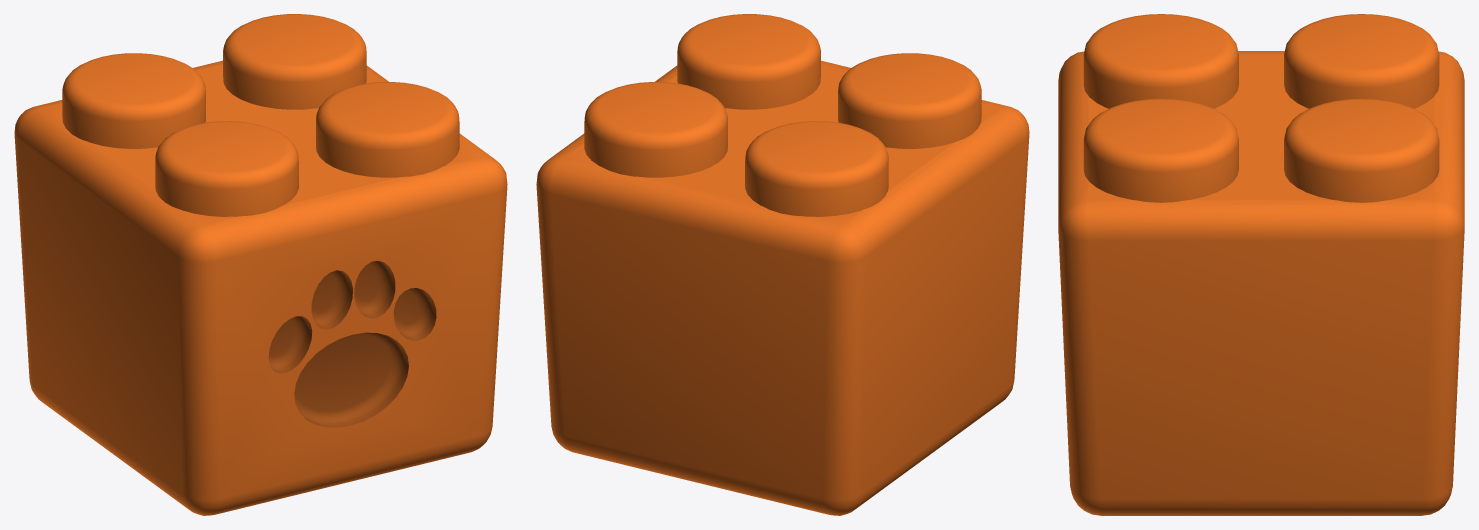
The model's file is Block_Paw.fbx.
3 views of the same model, side by side, from view 1: azimuth 30°, elevation 25°; view 2: azimuth 150°, elevation 25°; view 3: azimuth 270°, elevation 25° (orthographic). The views are drawn at different scales.
Visible parts, largest first — view 1: Block_Paw; view 2: Block_Paw; view 3: Block_Paw.
Part boxes in pixels (box(x1,y1,x2,y2)): Block_Paw: box(14, 14, 507, 515); Block_Paw: box(536, 14, 1029, 515); Block_Paw: box(1058, 14, 1464, 515).
Bounding box in the file's own units: 99.39 × 97.5 × 99.39.
